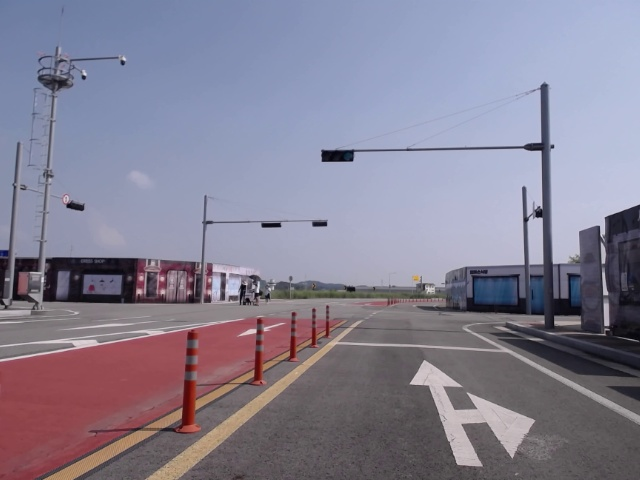green_3: (321, 150, 354, 162)
